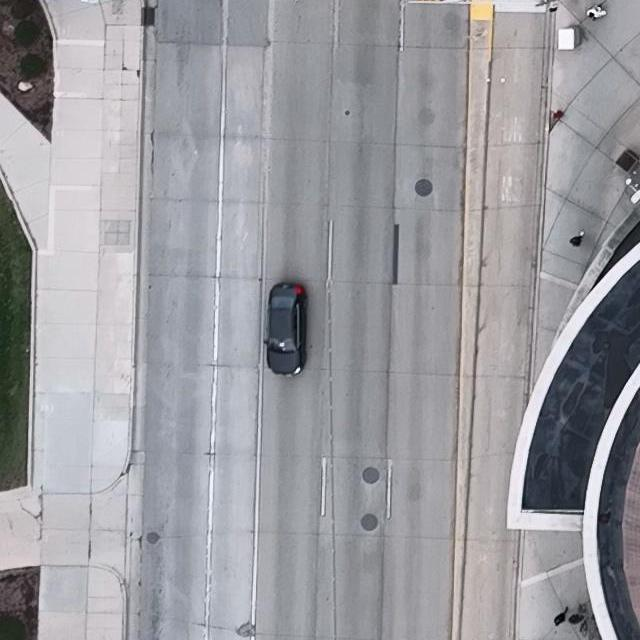car: (264, 282, 307, 375)
